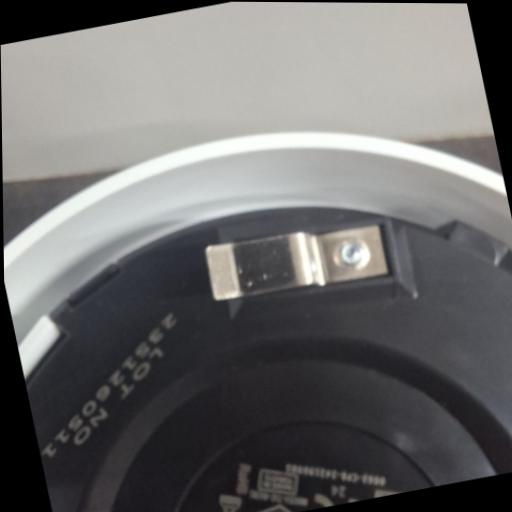yaysiz: (198, 209, 397, 310)
